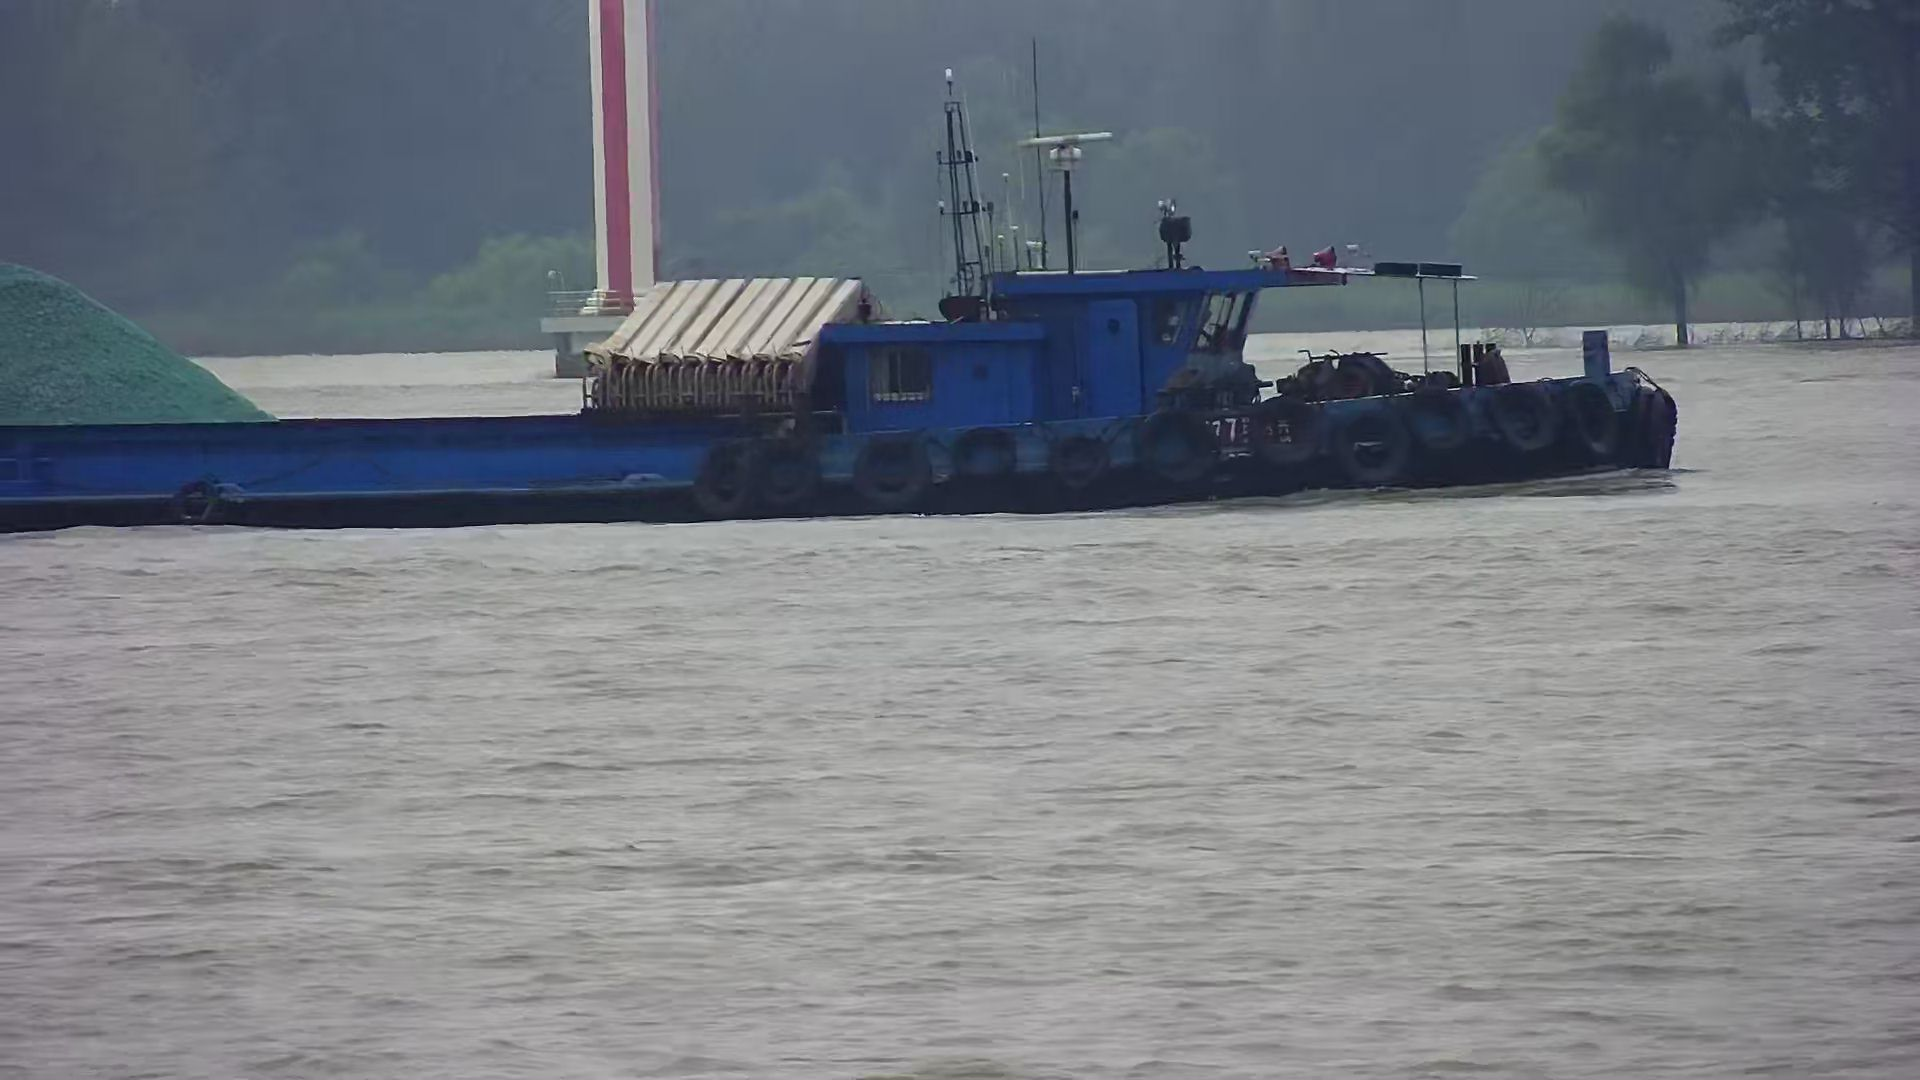platform: (541, 1, 676, 378)
ship: (3, 46, 1675, 529)
tree: (1534, 13, 1760, 347), (1721, 3, 1920, 342)
